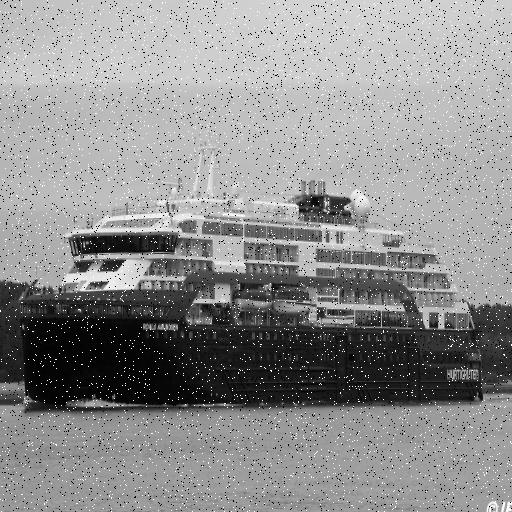cruises: (19, 121, 491, 414)
